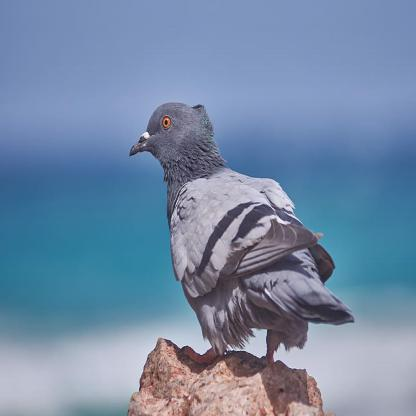Rock Pigeon: (128, 100, 342, 355)
